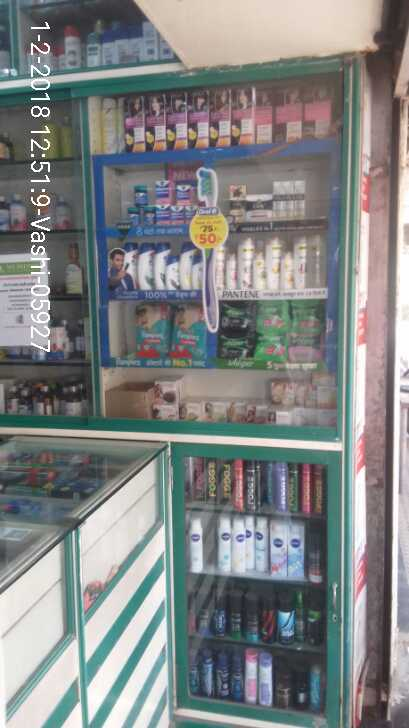beauty: (211, 233, 330, 289), (113, 244, 204, 290), (226, 175, 311, 216)
pharmacy: (116, 162, 193, 228), (170, 303, 217, 367), (130, 300, 170, 361), (282, 333, 329, 368), (249, 289, 287, 331), (287, 291, 324, 333), (211, 335, 255, 359), (216, 302, 253, 330)
